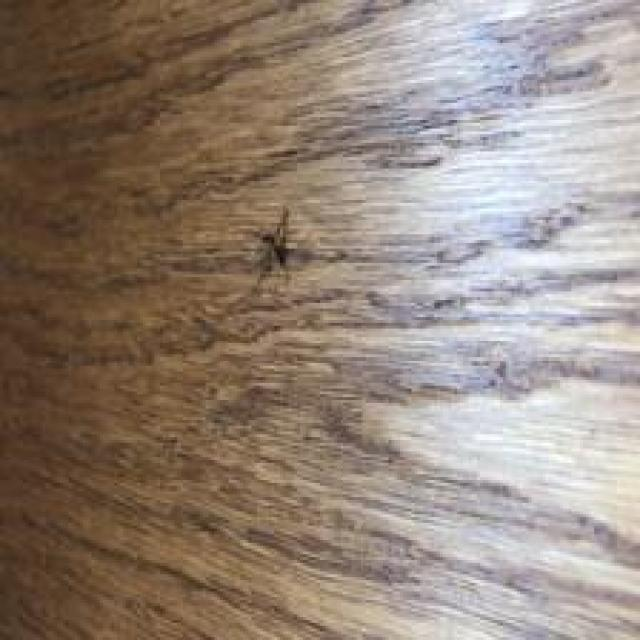Culex: (253, 206, 298, 283)
